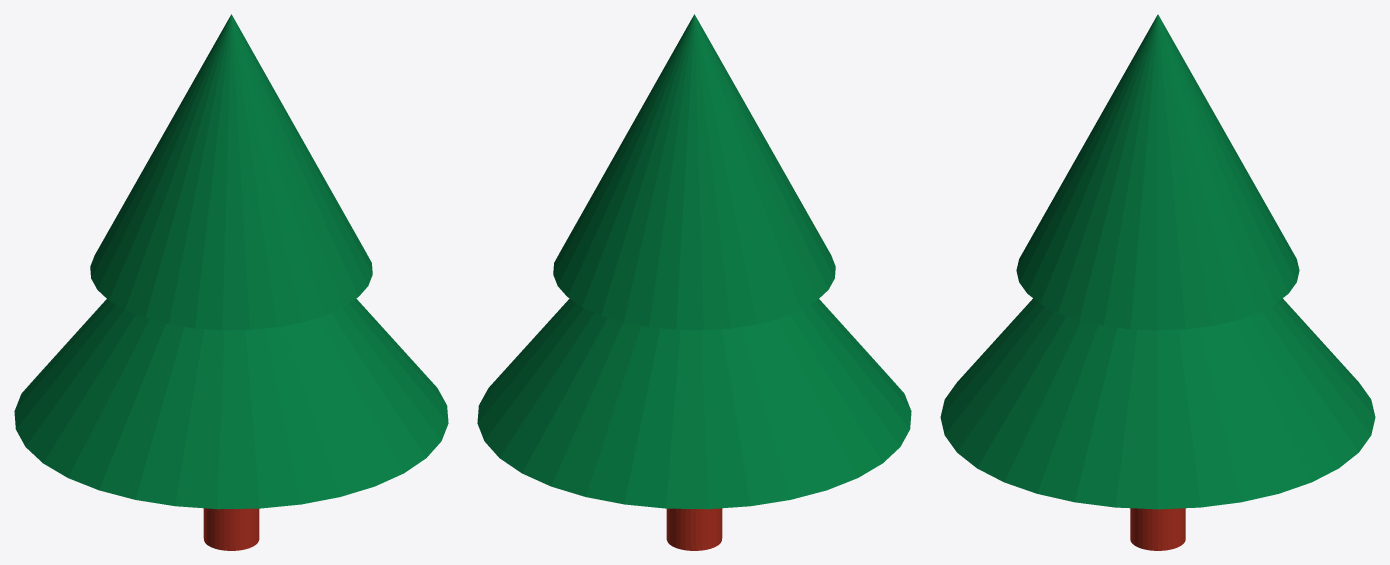
The model's file is Pine.glb.
3 views of the same model, side by side, from view 1: azimuth 30°, elevation 25°; view 2: azimuth 150°, elevation 25°; view 3: azimuth 270°, elevation 25° (orthographic).
Visible parts, largest first — view 1: FolliageBottom, FolliageTop, Trunk; view 2: FolliageBottom, FolliageTop, Trunk; view 3: FolliageBottom, FolliageTop, Trunk.
Boxes of the visible parts, left/top/right/bottom form: FolliageBottom: left=14, top=298, right=448, bottom=509; FolliageTop: left=90, top=14, right=372, bottom=330; Trunk: left=203, top=508, right=259, bottom=550; FolliageBottom: left=477, top=298, right=911, bottom=509; FolliageTop: left=553, top=14, right=835, bottom=330; Trunk: left=666, top=508, right=722, bottom=550; FolliageBottom: left=940, top=298, right=1375, bottom=509; FolliageTop: left=1016, top=14, right=1299, bottom=330; Trunk: left=1130, top=508, right=1185, bottom=550.
Size of the model in its own units: 3.07 by 4.09 by 3.07.
